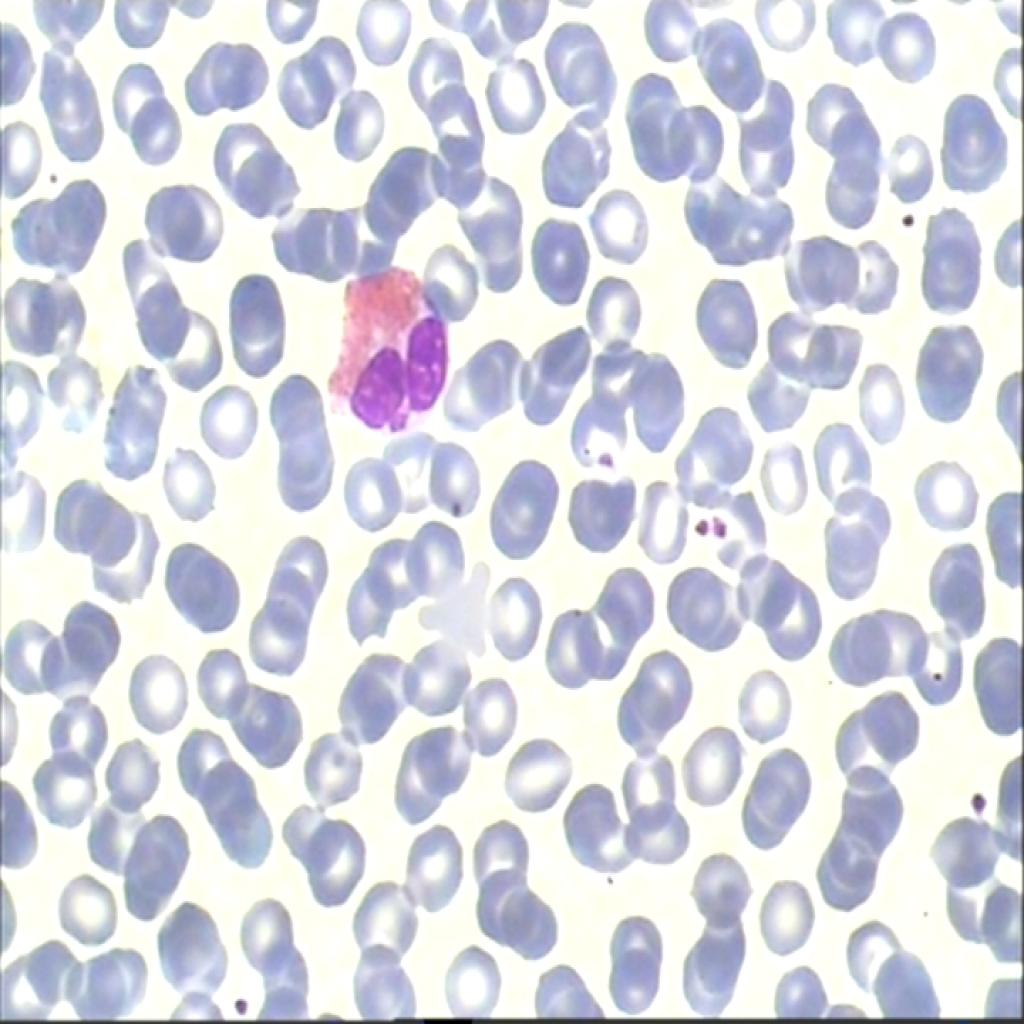Eosinofil: (322, 272, 456, 452), (704, 503, 735, 548), (228, 990, 268, 1022), (597, 434, 620, 482), (681, 508, 713, 540)
Platelet: (957, 781, 997, 823), (440, 494, 472, 540)
